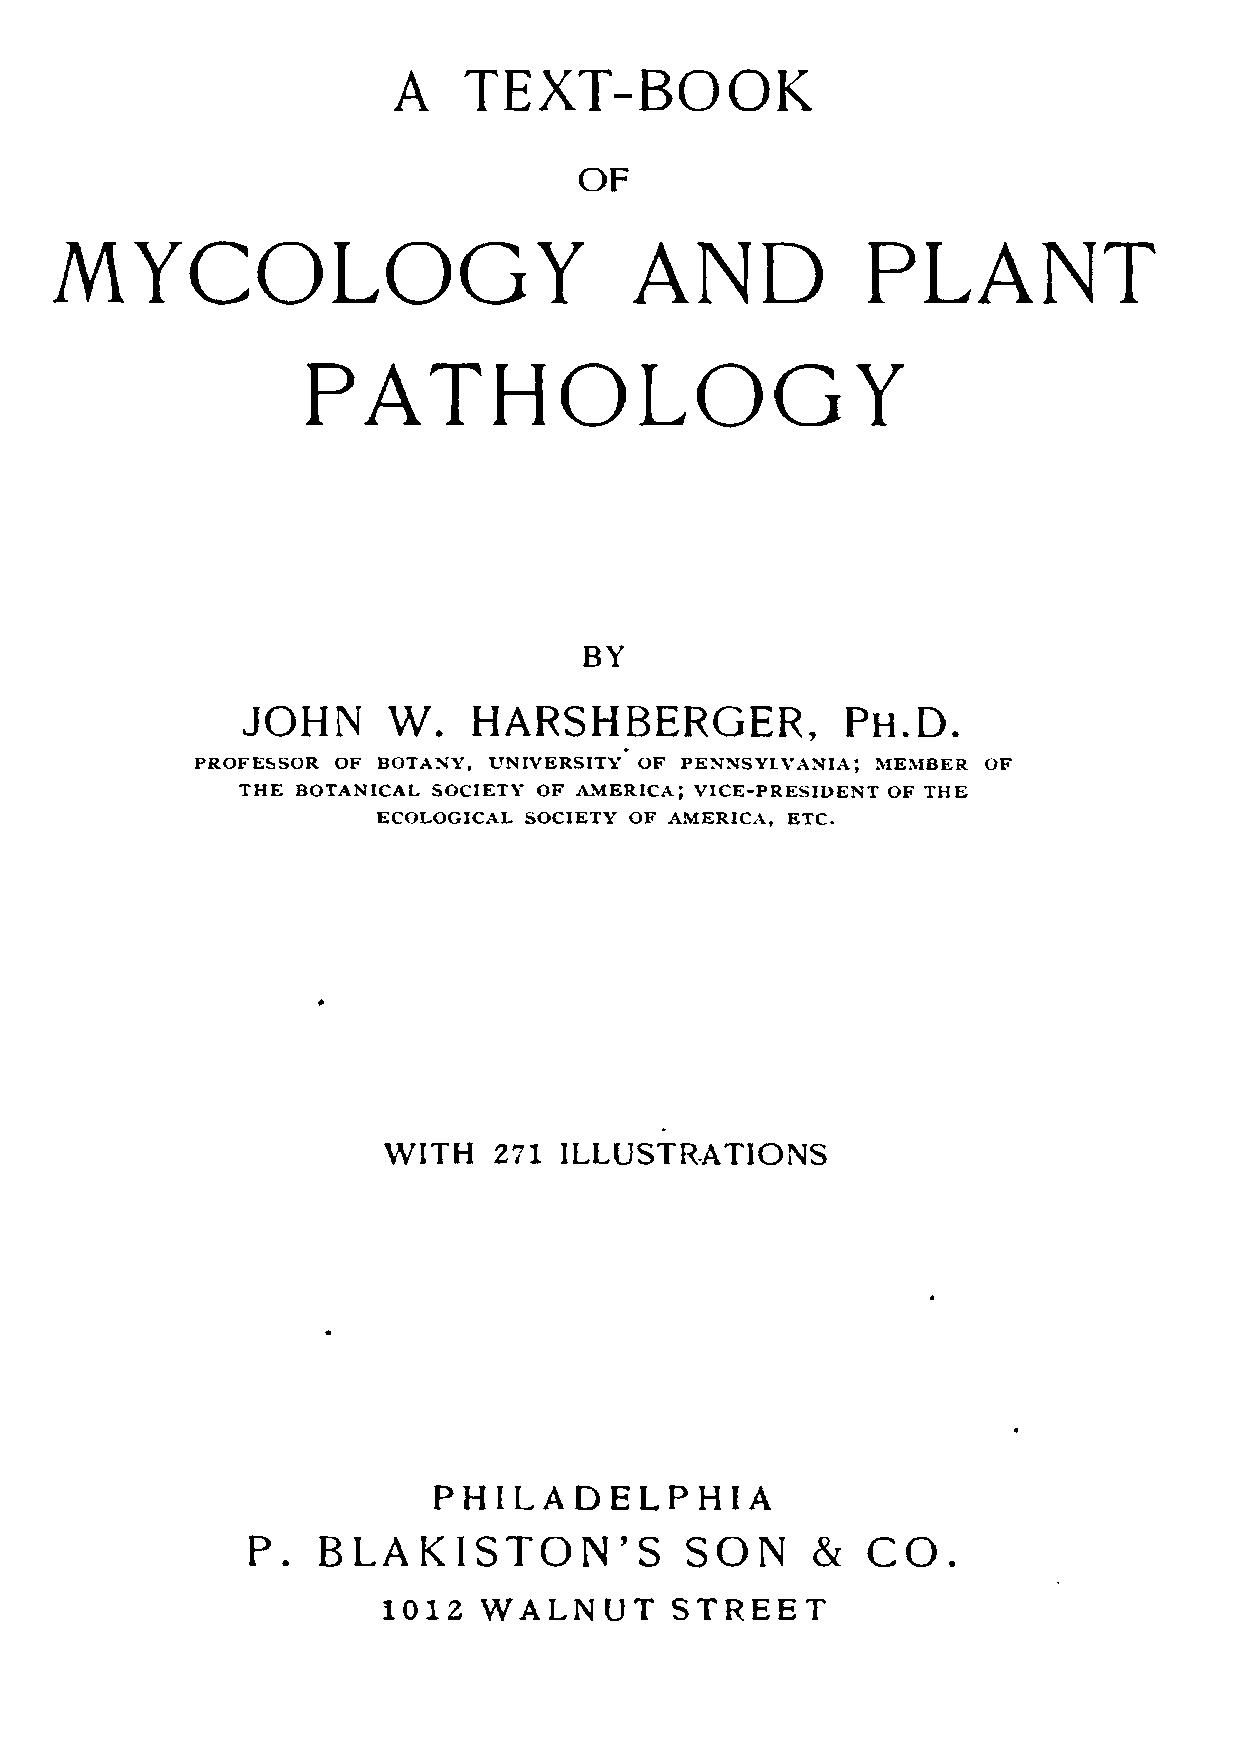author: (236, 641, 961, 741)
title: (50, 64, 1159, 429)
